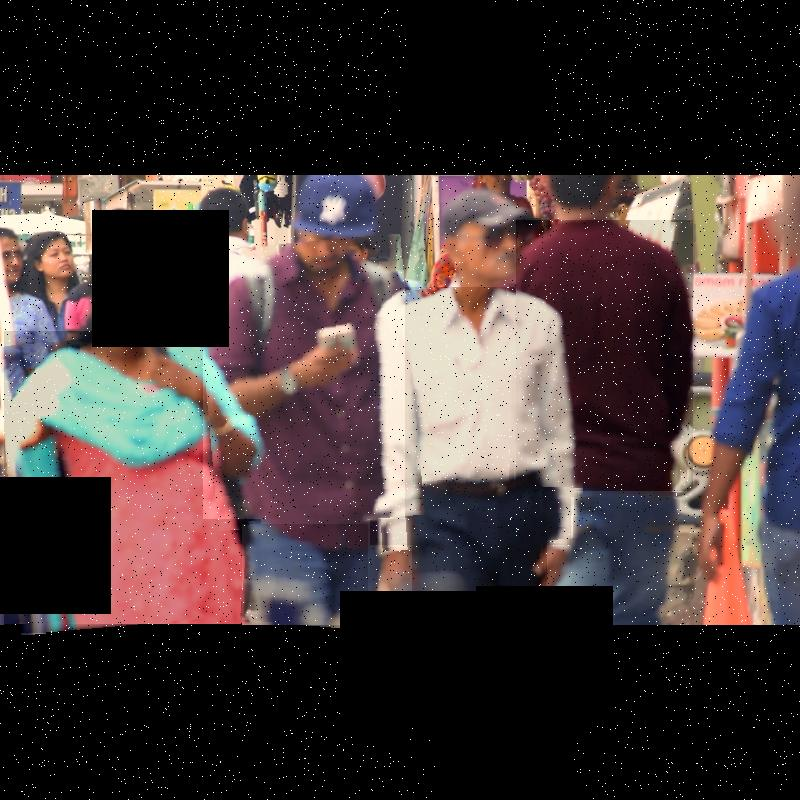Churidaar: (4, 332, 261, 633)
Jeans: (571, 497, 679, 625), (242, 524, 368, 628)
Pant: (412, 474, 547, 624)
Shirt: (203, 245, 405, 519), (370, 287, 577, 545), (516, 221, 693, 491)
